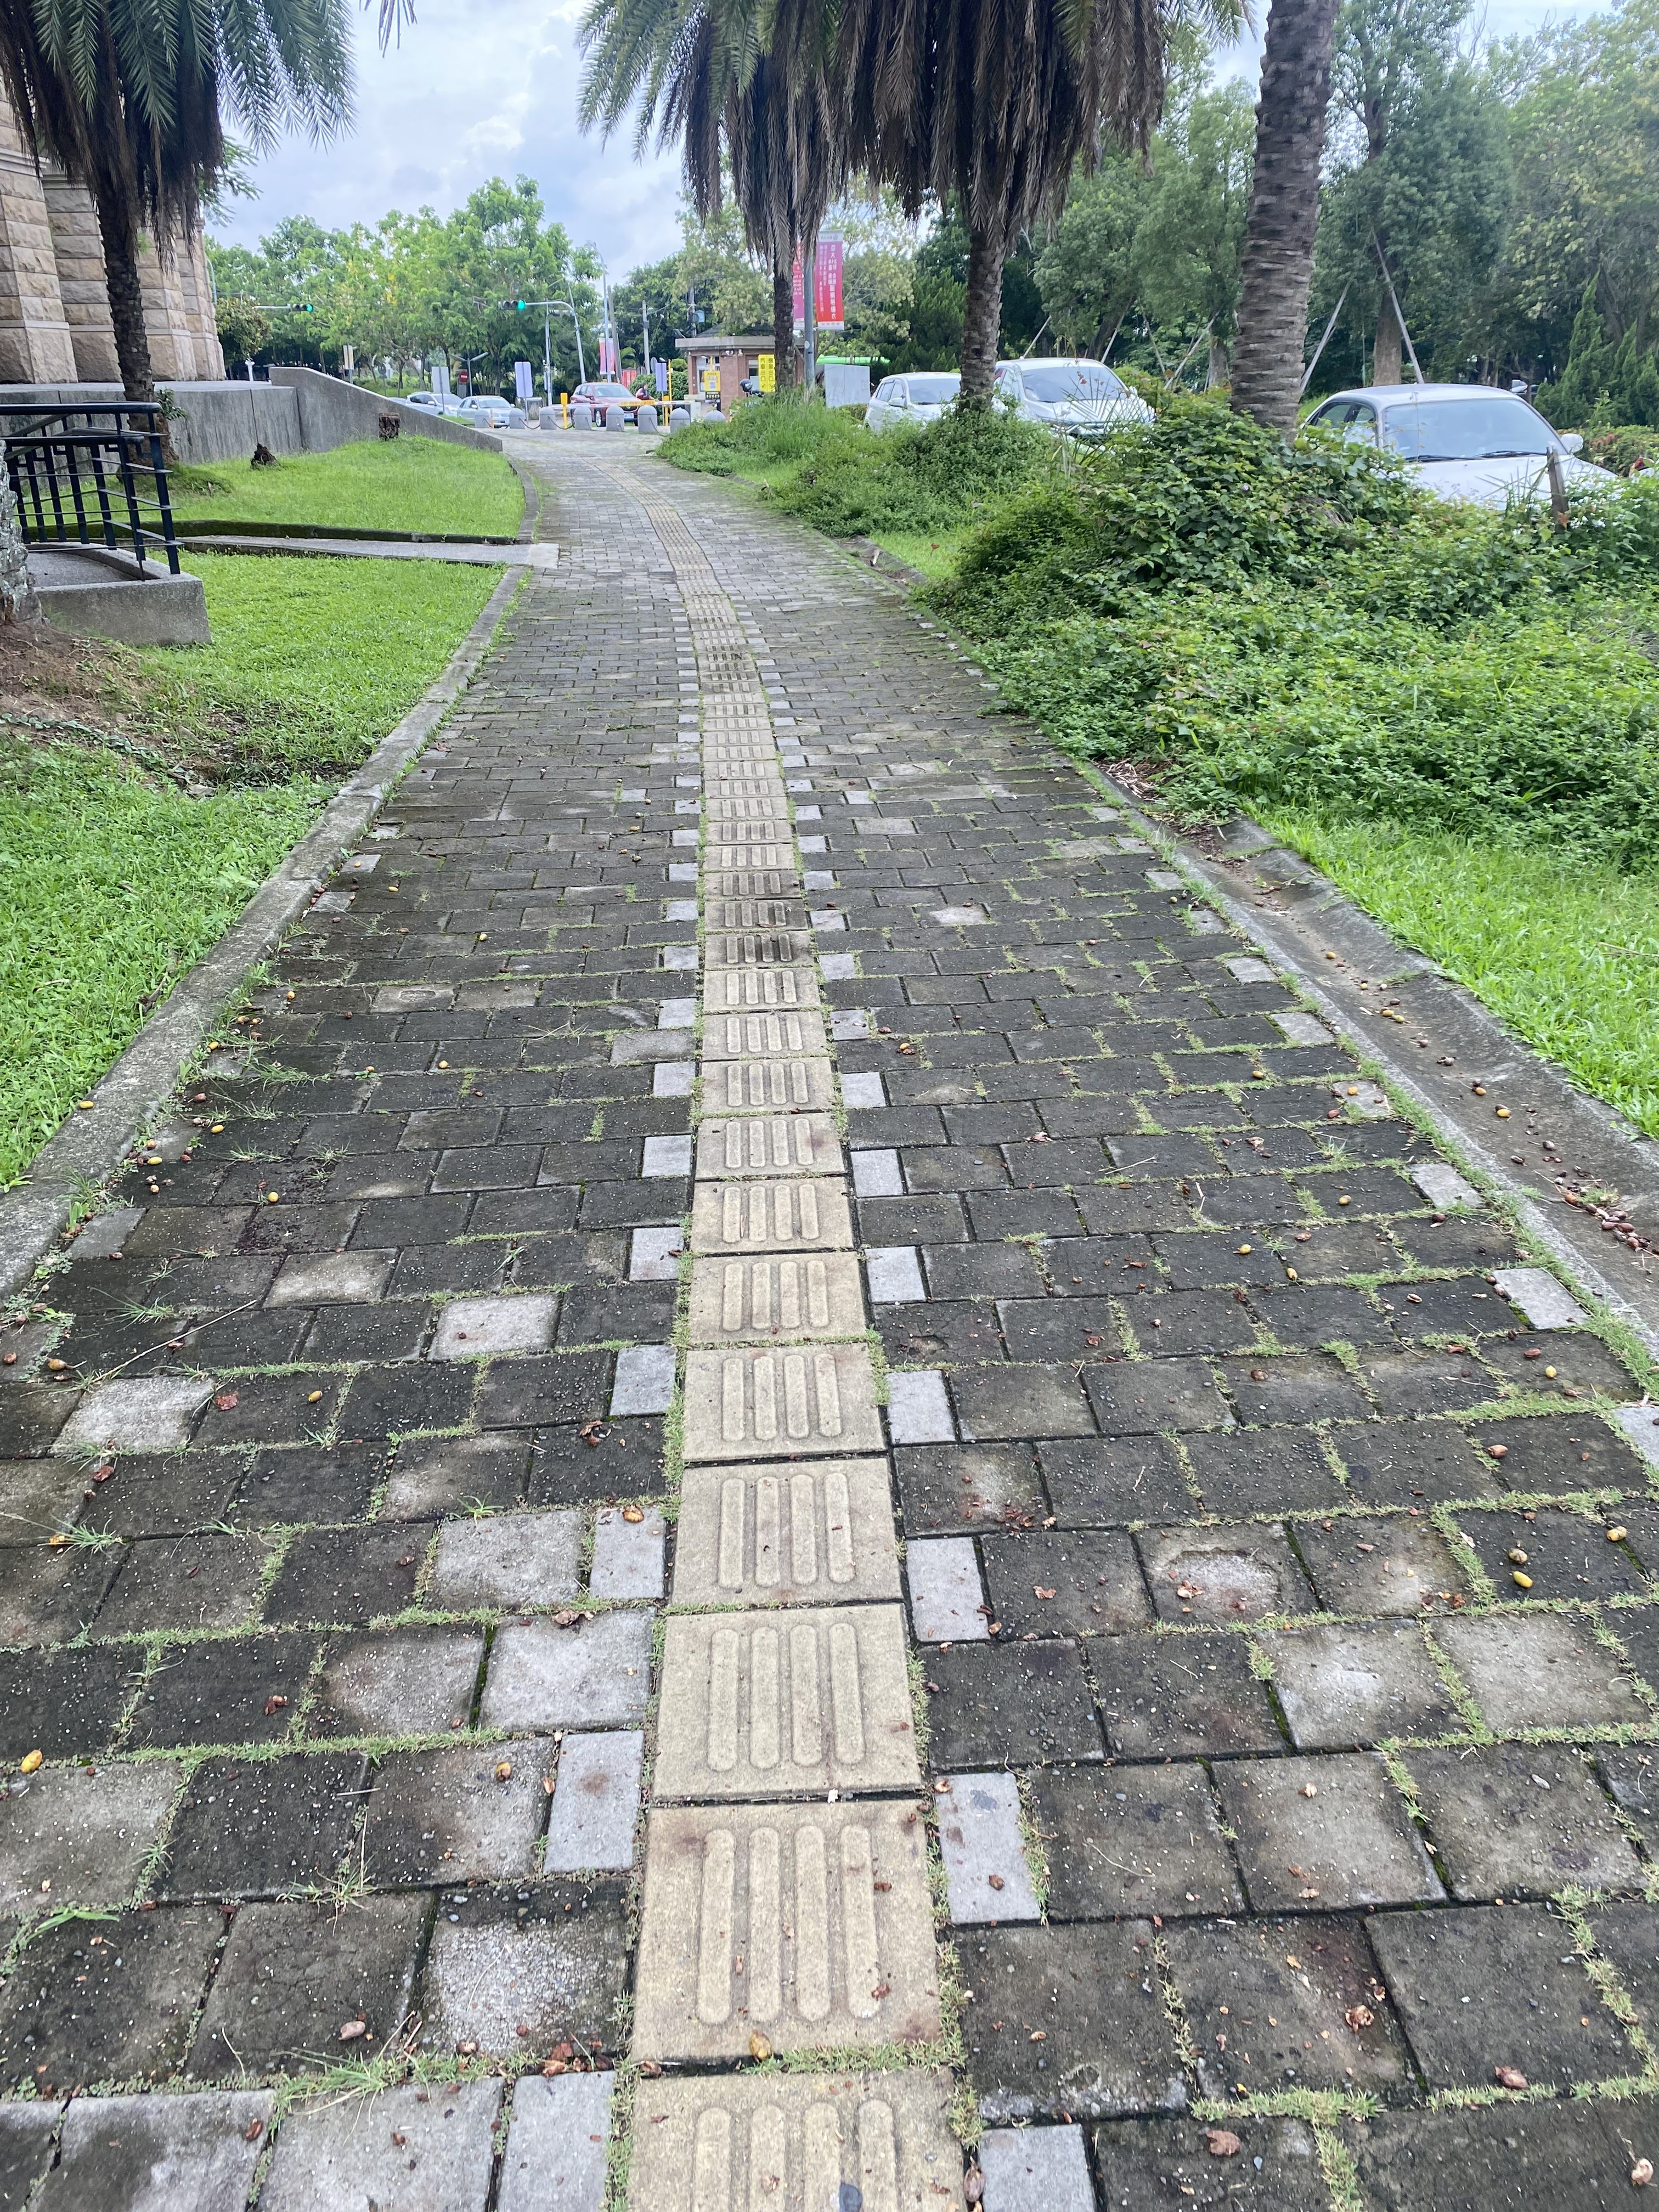0: (0, 672, 1659, 2212)
sidewalk: (465, 408, 1080, 1588)
